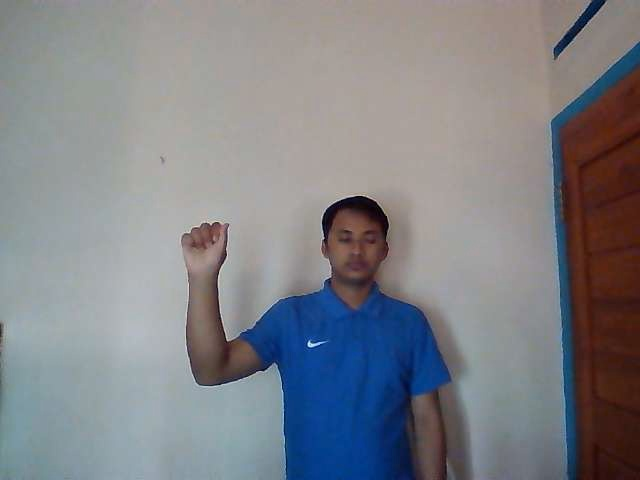A: (180, 220, 231, 274)
